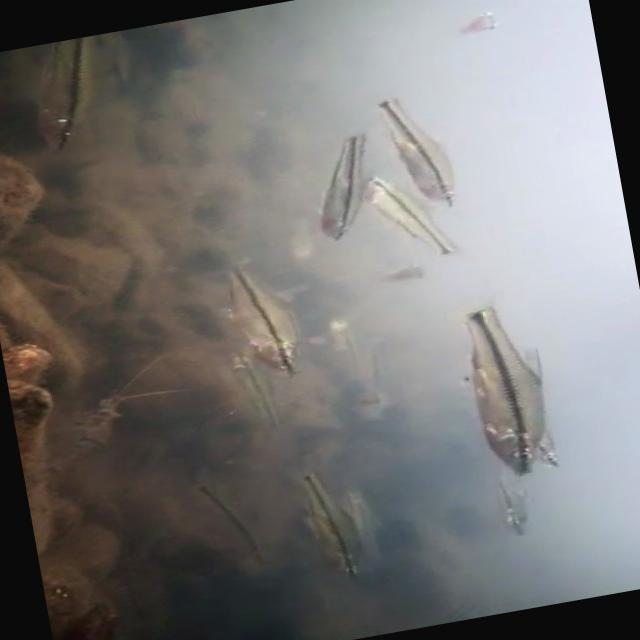Cakil Baligi: (448, 279, 568, 483), (201, 253, 319, 391), (369, 81, 478, 216), (288, 460, 368, 590)
